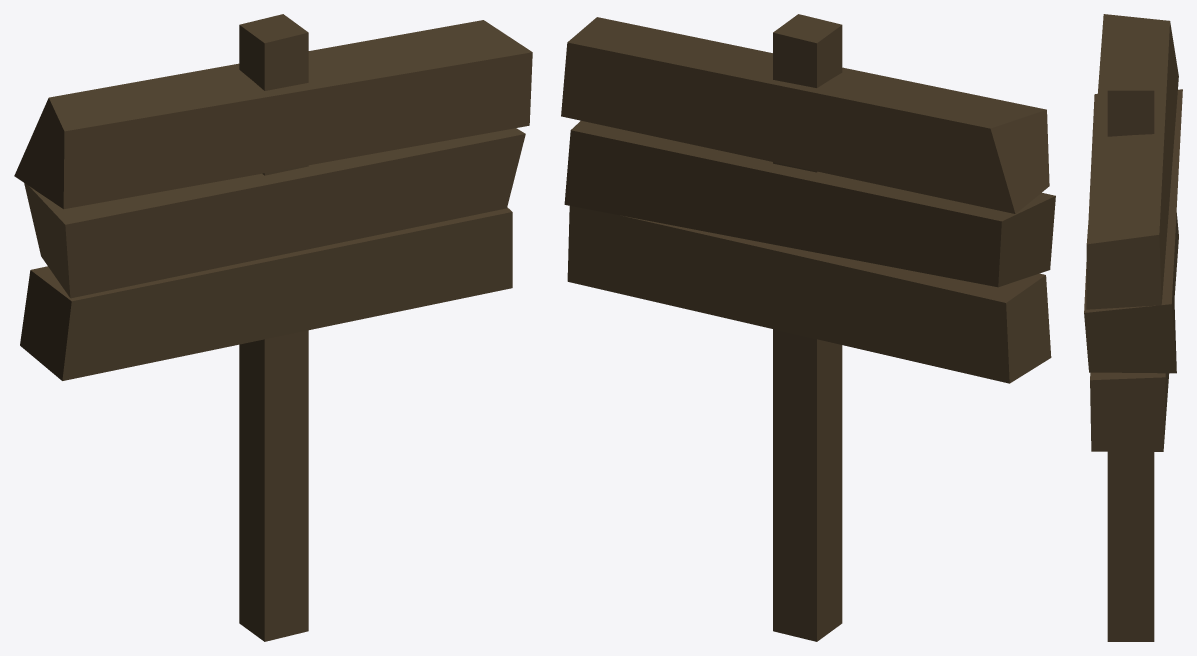
The model's file is placa.fbx.
3 views of the same model, side by side, from view 1: azimuth 30°, elevation 25°; view 2: azimuth 150°, elevation 25°; view 3: azimuth 270°, elevation 25° (orthographic). The views are drawn at different scales.
Visible parts, largest first — view 1: Cube.006; view 2: Cube.006; view 3: Cube.006.
Part boxes in pixels (bbox=[...]): Cube.006: bbox=[14, 14, 532, 641]; Cube.006: bbox=[561, 14, 1055, 641]; Cube.006: bbox=[1084, 14, 1182, 641].
Size of the model in its own units: 213 by 260 by 42.26.
